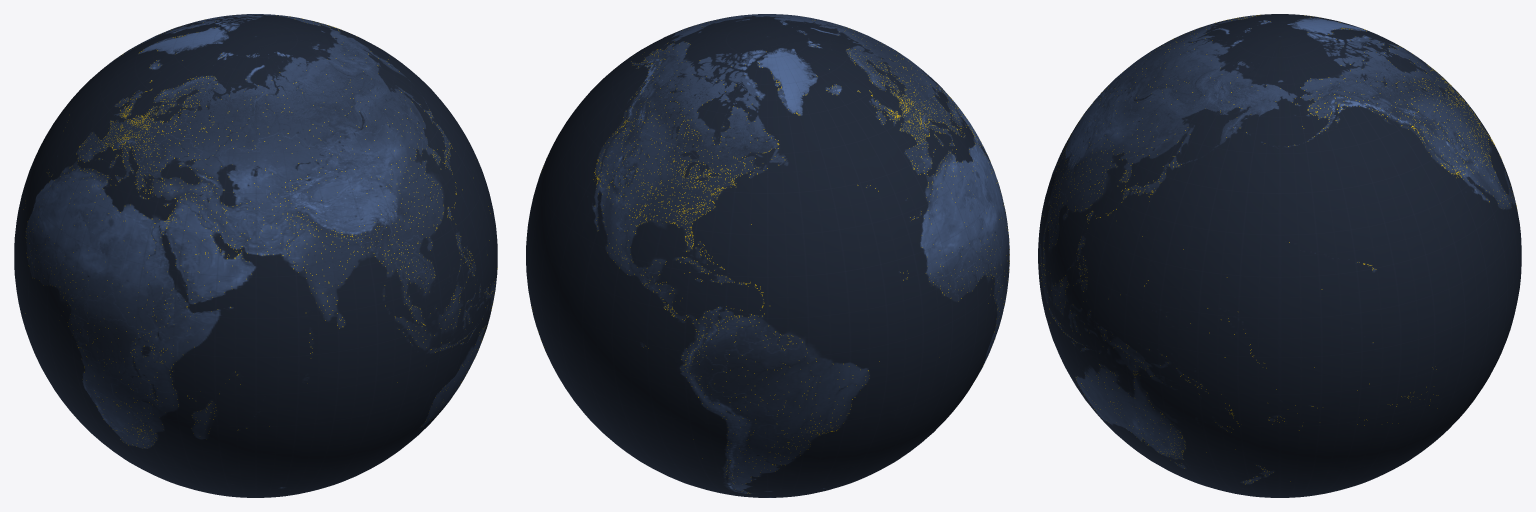
The model's file is great-globe.glb.
3 views of the same model, side by side, from view 1: azimuth 30°, elevation 25°; view 2: azimuth 150°, elevation 25°; view 3: azimuth 270°, elevation 25° (orthographic).
Visible parts, largest first — view 1: Object_4, Object_2, Object_3; view 2: Object_4, Object_2, Object_3; view 3: Object_4, Object_2.
Part boxes in pixels (x1=…): Object_4: x1=14, y1=14, x2=497, y2=497; Object_2: x1=25, y1=15, x2=494, y2=447; Object_3: x1=23, y1=22, x2=497, y2=430; Object_4: x1=526, y1=14, x2=1009, y2=497; Object_2: x1=538, y1=43, x2=1009, y2=493; Object_3: x1=532, y1=43, x2=1009, y2=476; Object_4: x1=1038, y1=14, x2=1521, y2=497; Object_2: x1=1040, y1=15, x2=1516, y2=482.
Size of the model in its own units: 0.3331 by 0.3333 by 0.3333.
Materials: 2 (1 with a texture image).
